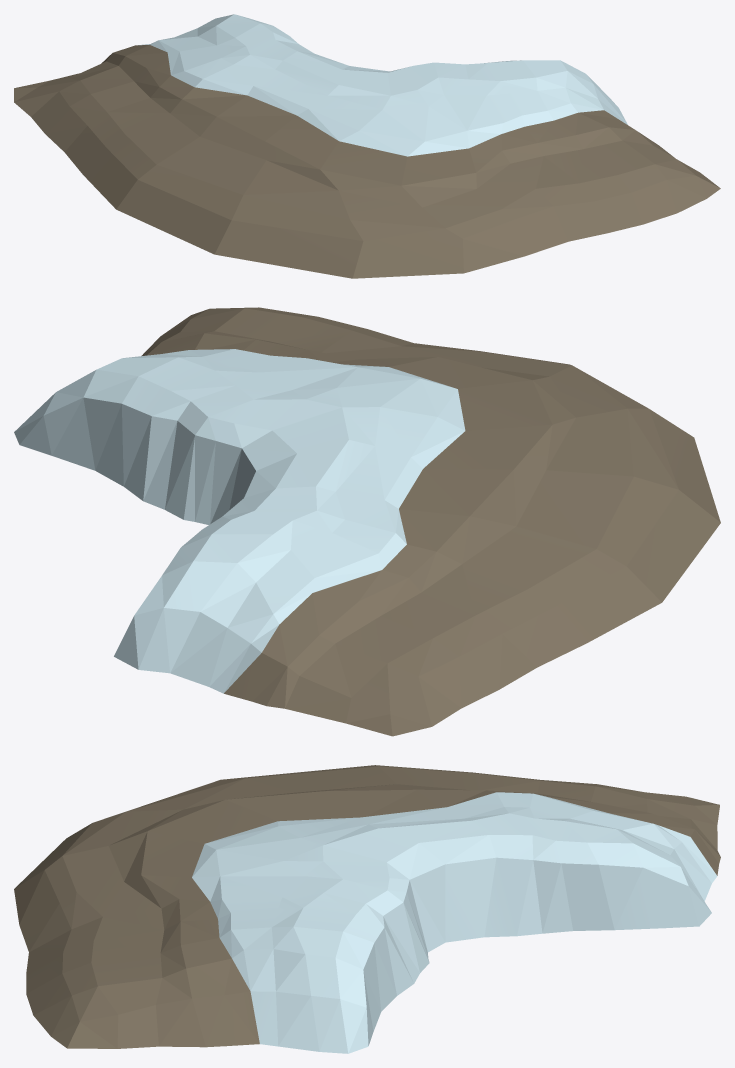
File: Playa02.glb
3 views of the same model, one above another, from view 1: azimuth 30°, elevation 25°; view 2: azimuth 150°, elevation 25°; view 3: azimuth 270°, elevation 25° (orthographic). The views are drawn at different scales.
Visible parts, largest first — view 1: SM_Env_Beach_02_Snow; view 2: SM_Env_Beach_02_Snow; view 3: SM_Env_Beach_02_Snow.
Boxes of the visible parts, bbox=[...] form: SM_Env_Beach_02_Snow: bbox=[14, 14, 720, 278]; SM_Env_Beach_02_Snow: bbox=[14, 307, 720, 736]; SM_Env_Beach_02_Snow: bbox=[14, 765, 720, 1053].
Bounding box in the file's own units: 15.8 × 2.08 × 17.09.
Materials: 1 (1 with a texture image).
